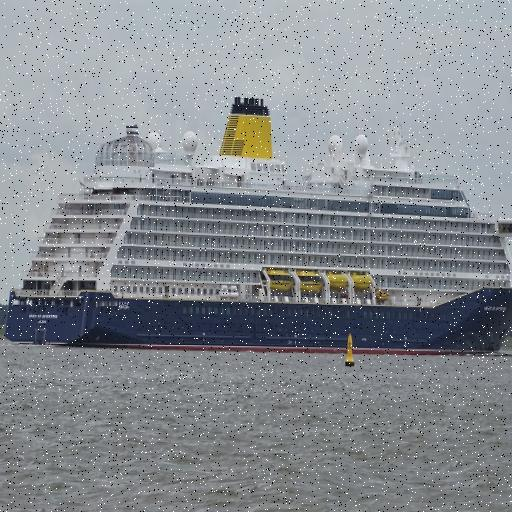cruises: (6, 87, 512, 352)
